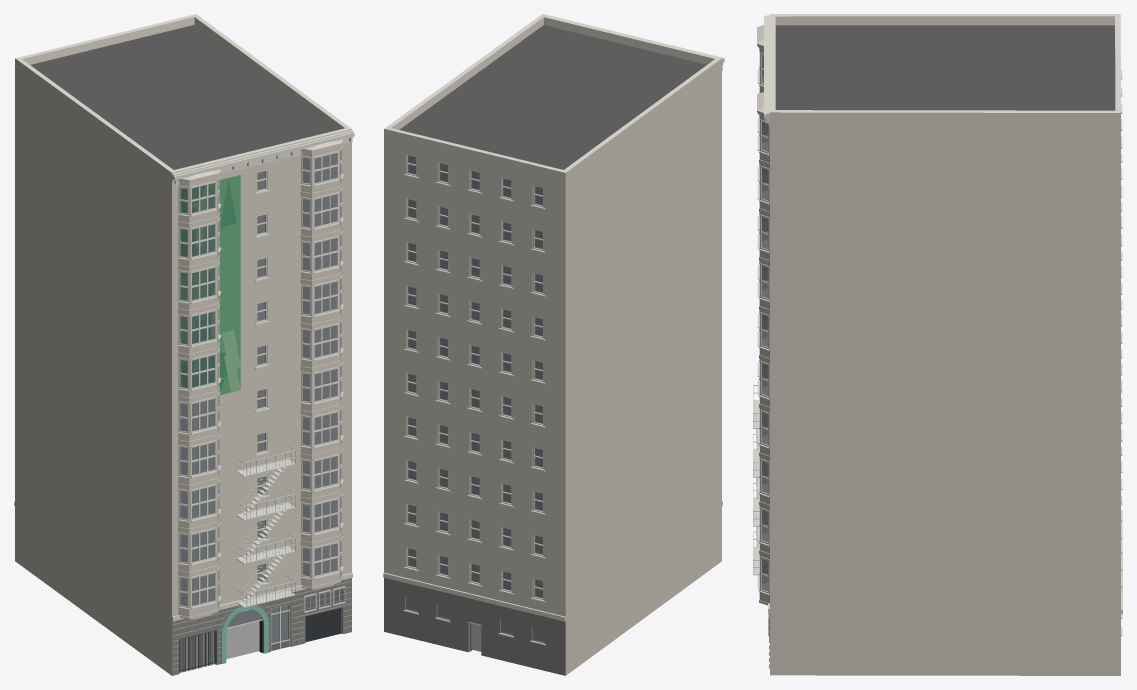
The model's file is exterior.glb.
The picture shows the model from 3 angles, left to right: view 1: azimuth 30°, elevation 25°; view 2: azimuth 150°, elevation 25°; view 3: azimuth 270°, elevation 25°; orthographic projection. The views are drawn at different scales.
Visible parts, largest first — view 1: shell, bay-glazing-hyb, roof, bay-windows-hyb, shadow-proxy, mural, fire-escape, storefront, trim, glazing, frames, hyD-rubble-3 (+2 smaller); view 2: shell, roof, glazing, shadow-proxy, frames, trim; view 3: shell, roof, bay-glazing-hyb, bay-windows-hyb, trim, fire-escape.
Part boxes in pixels (box(x1,y1,x2,y2)): shell: box(15, 14, 351, 675); bay-glazing-hyb: box(178, 145, 343, 609); roof: box(30, 25, 336, 169); bay-windows-hyb: box(177, 139, 343, 619); shadow-proxy: box(180, 153, 336, 669); mural: box(181, 175, 240, 404); fire-escape: box(236, 445, 295, 607); storefront: box(179, 604, 342, 672); trim: box(14, 130, 354, 621); glazing: box(226, 171, 289, 643); frames: box(256, 170, 267, 584); hyD-rubble-3: box(173, 581, 351, 670); shell: box(384, 14, 721, 675); roof: box(399, 25, 706, 169); glazing: box(406, 155, 544, 642); shadow-proxy: box(408, 156, 544, 651); frames: box(406, 154, 543, 600); trim: box(383, 14, 724, 645); shell: box(770, 14, 1120, 675); roof: box(775, 25, 1115, 110); bay-glazing-hyb: box(757, 48, 769, 594); bay-windows-hyb: box(757, 25, 769, 605); trim: box(764, 15, 1122, 636); fire-escape: box(753, 385, 767, 575).
Size of the model in its own units: 14.11 by 37.38 by 22.27.
